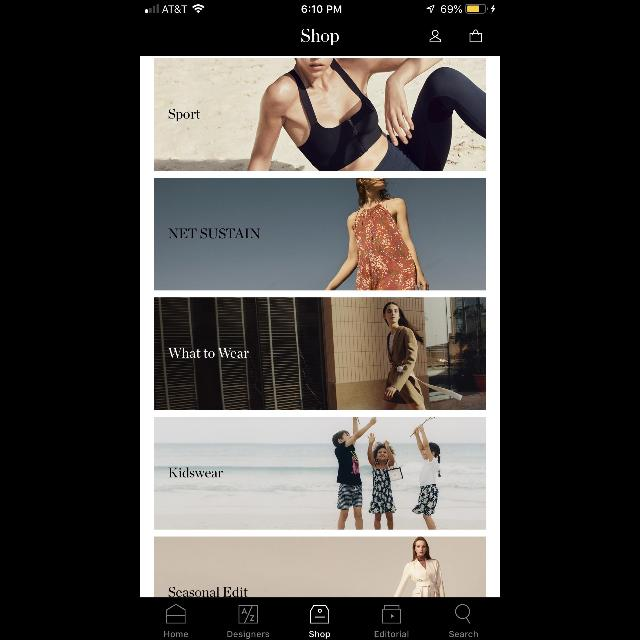icon: (167, 604, 186, 624), (382, 605, 402, 623), (455, 604, 471, 624), (470, 30, 482, 42), (430, 30, 440, 42)
image: (154, 59, 486, 171), (154, 178, 486, 290), (154, 298, 486, 410), (154, 417, 486, 529), (154, 537, 486, 597), (238, 605, 258, 623), (310, 605, 330, 623)
text: (169, 586, 249, 598), (168, 228, 260, 238), (168, 348, 250, 358), (301, 28, 339, 46), (168, 467, 222, 478), (169, 108, 201, 122), (227, 631, 269, 639), (374, 630, 408, 638), (449, 631, 477, 637), (310, 631, 330, 639), (164, 631, 188, 637)
uppertaskbar: (140, 0, 500, 14)
